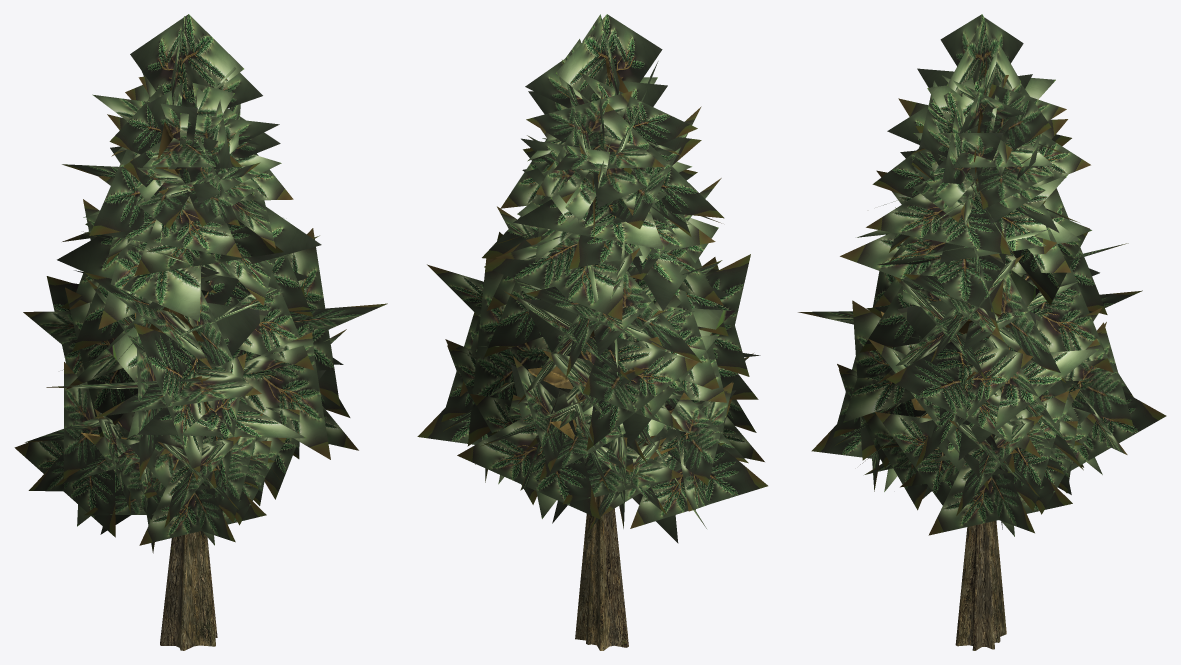
Rendered from PineSmall1.fbx.
3 views of the same model, side by side, from view 1: azimuth 30°, elevation 25°; view 2: azimuth 150°, elevation 25°; view 3: azimuth 270°, elevation 25° (orthographic).
Parts seen in each view (by area): view 1: PineSmall1_LOD0; view 2: PineSmall1_LOD0; view 3: PineSmall1_LOD0.
Part boxes in pixels (left/top/right/bottom): PineSmall1_LOD0: left=14, top=14, right=387, bottom=650; PineSmall1_LOD0: left=417, top=14, right=767, bottom=650; PineSmall1_LOD0: left=798, top=14, right=1166, bottom=650.
Size of what is drawn, in the model's own units: 2.33 by 4.34 by 2.33.
